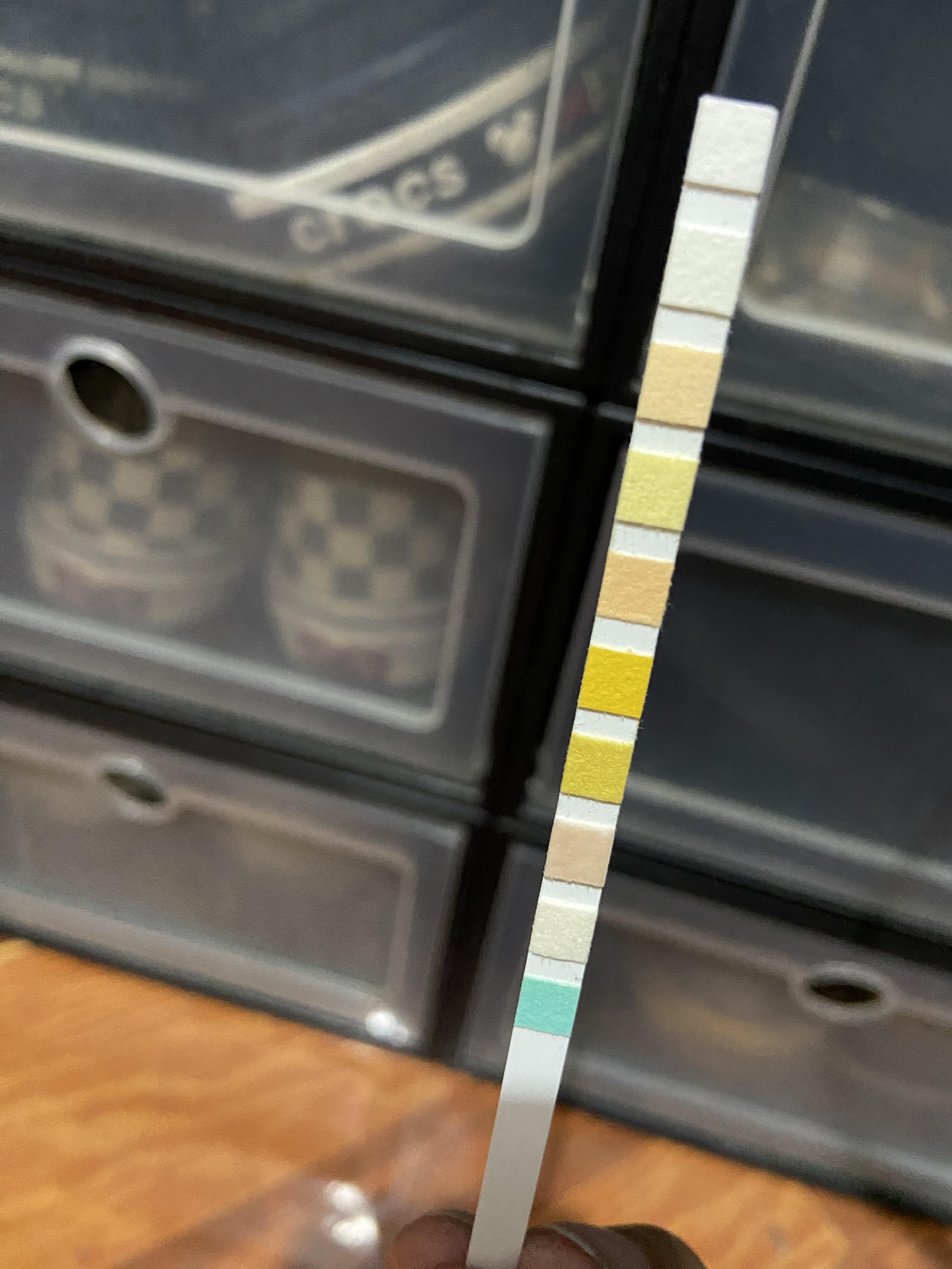Bilirubin: (536, 912, 589, 953)
Blood: (586, 661, 643, 707)
Glucose: (522, 986, 572, 1027)
Ketone: (551, 833, 605, 876)
Leukocytes: (696, 117, 764, 180)
Nitrite: (671, 243, 735, 305)
Protein: (625, 470, 685, 520)
SpGravity: (568, 748, 624, 792)
Urobilinogen: (647, 358, 709, 418)
pH: (604, 569, 663, 616)
strip: (468, 98, 779, 1266)
